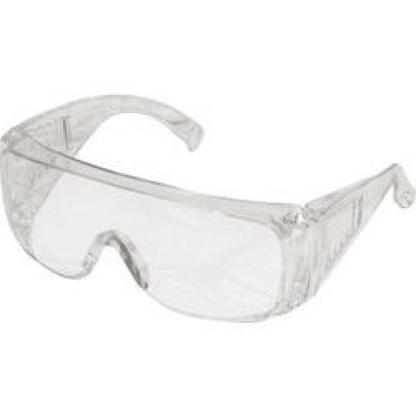oculos: (1, 63, 416, 324)
